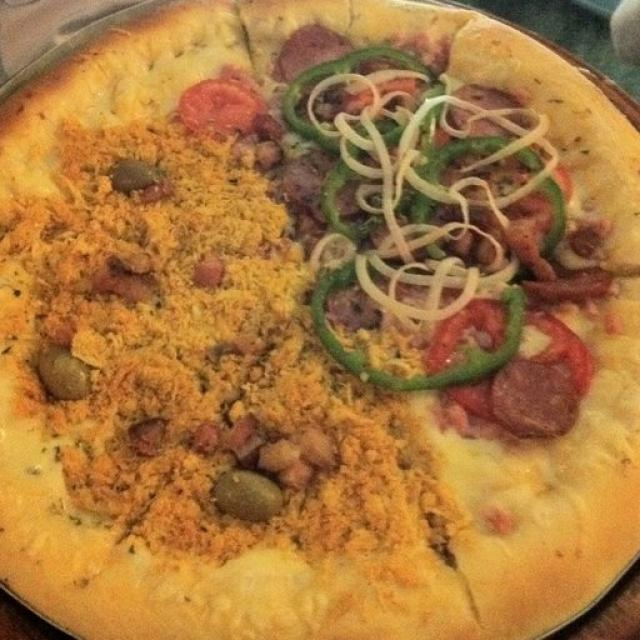Green Pepper: (315, 259, 527, 393), (419, 131, 576, 278), (285, 42, 444, 146), (316, 148, 386, 240)
Ham: (271, 432, 332, 482), (114, 412, 171, 452), (99, 271, 163, 302), (229, 412, 264, 460), (45, 314, 88, 346), (190, 411, 216, 454), (198, 252, 225, 288), (129, 250, 154, 271)
Olives: (34, 344, 86, 401), (218, 470, 283, 514), (106, 160, 162, 188)
Onions: (457, 154, 544, 227), (339, 118, 400, 210), (358, 275, 454, 322), (381, 223, 462, 278), (340, 64, 414, 108), (506, 116, 562, 164), (395, 103, 424, 180), (308, 86, 354, 119)
Pepperoni: (489, 368, 581, 437), (290, 150, 358, 215), (277, 25, 351, 80), (450, 78, 512, 125)
Pizza: (0, 0, 640, 640)
Tomato: (431, 299, 590, 442)
